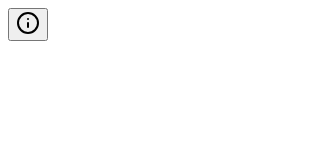
InfoHint › opens on tap and closes on a second tap
Later steps or results of the test are not shown.
Click the button named "Sessions" at (28, 24), box [8,8,48,41]
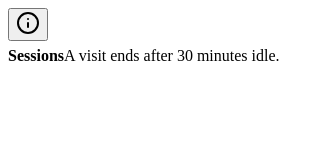
Expected: the tooltip is shown, [8,47,280,65]
